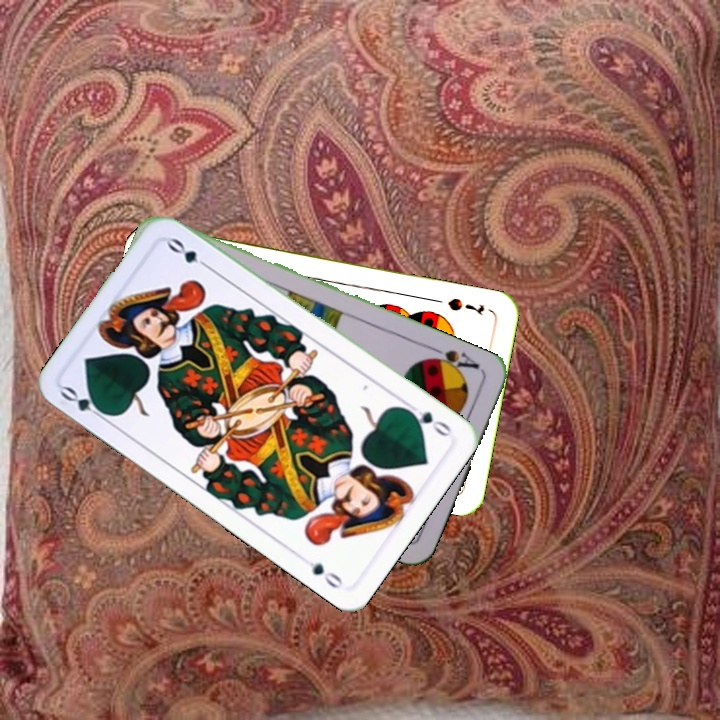GO: (56, 382, 112, 424), (400, 398, 454, 440)
S7: (443, 294, 487, 318)
SA: (424, 343, 482, 378)
